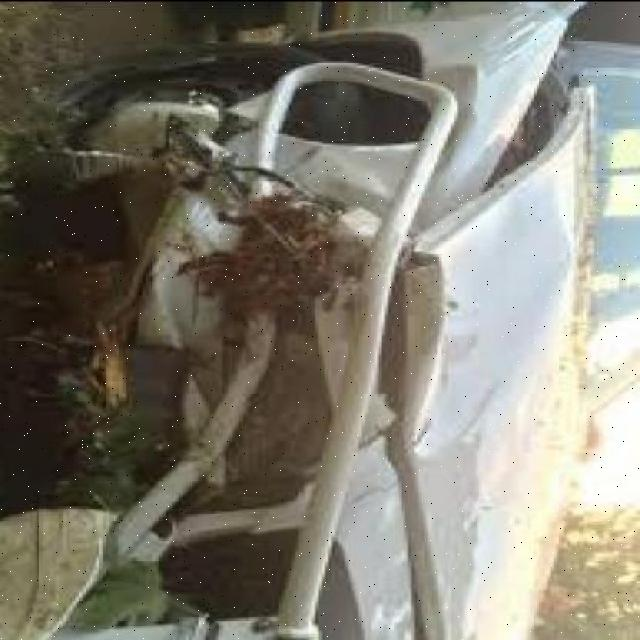damage: (38, 49, 596, 640)
